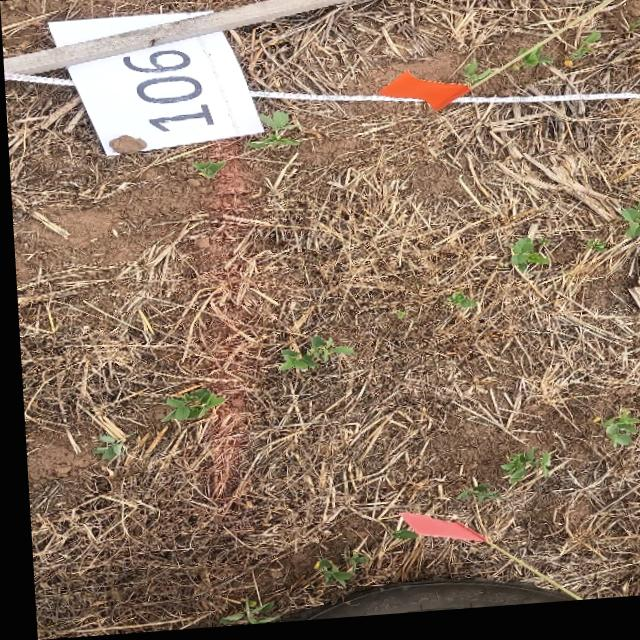soy_plant: (274, 339, 349, 372), (245, 114, 298, 153), (306, 556, 360, 592), (157, 391, 220, 421), (495, 454, 545, 491), (212, 601, 270, 626), (595, 420, 633, 455), (507, 245, 544, 279), (568, 39, 600, 68), (617, 207, 640, 247), (511, 55, 552, 75), (88, 434, 117, 461), (451, 490, 494, 508), (463, 65, 489, 90), (190, 163, 223, 181), (443, 297, 472, 314), (582, 247, 603, 260)
